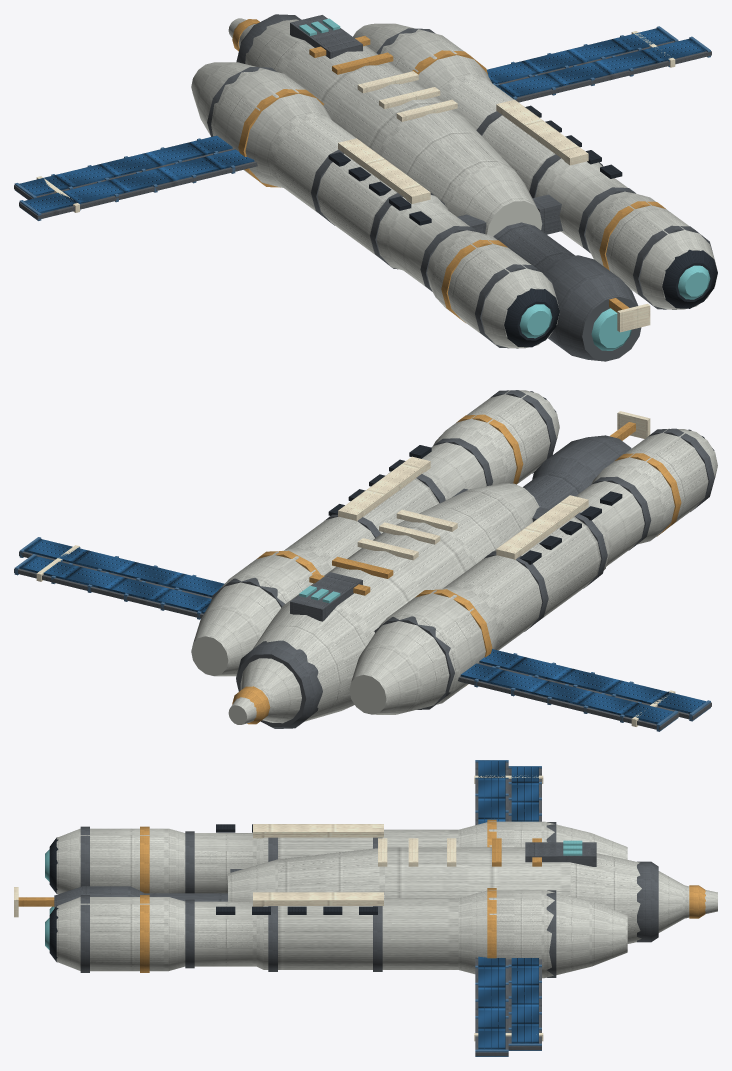
Rendered from graceFlyby.glb.
3 renders of one model, top to bottom at view 1: azimuth 30°, elevation 25°; view 2: azimuth 150°, elevation 25°; view 3: azimuth 270°, elevation 25°, orthographic. The views are drawn at different scales.
Visible parts, largest first — view 1: graceFlyby; view 2: graceFlyby; view 3: graceFlyby.
Part boxes in pixels (bbox=[...]): graceFlyby: bbox=[14, 14, 717, 361]; graceFlyby: bbox=[14, 390, 717, 731]; graceFlyby: bbox=[14, 760, 717, 1056].
Bounding box in the file's own units: 290 × 54.05 × 296.
1 material, 1 textured.
